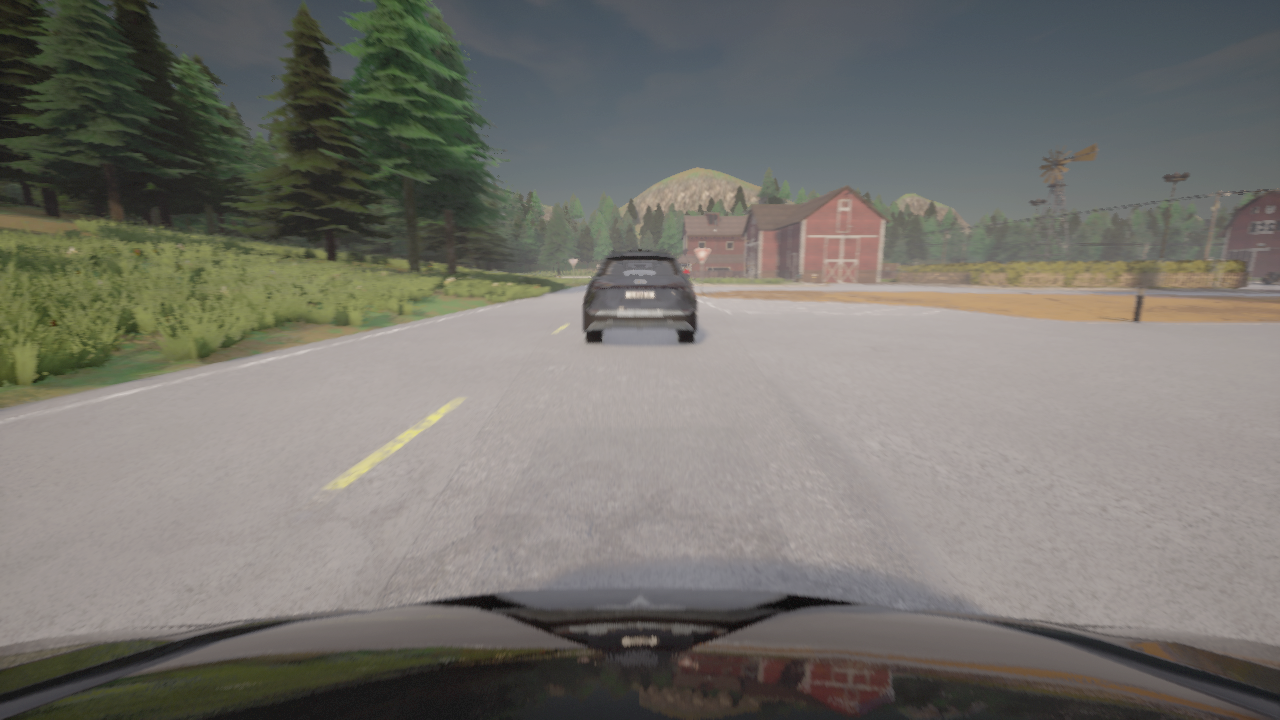cyclist: (0, 588, 1279, 719), (583, 249, 696, 343), (1261, 270, 1279, 284)
pedestrian: (683, 265, 689, 278), (811, 271, 815, 282), (797, 272, 800, 283)
